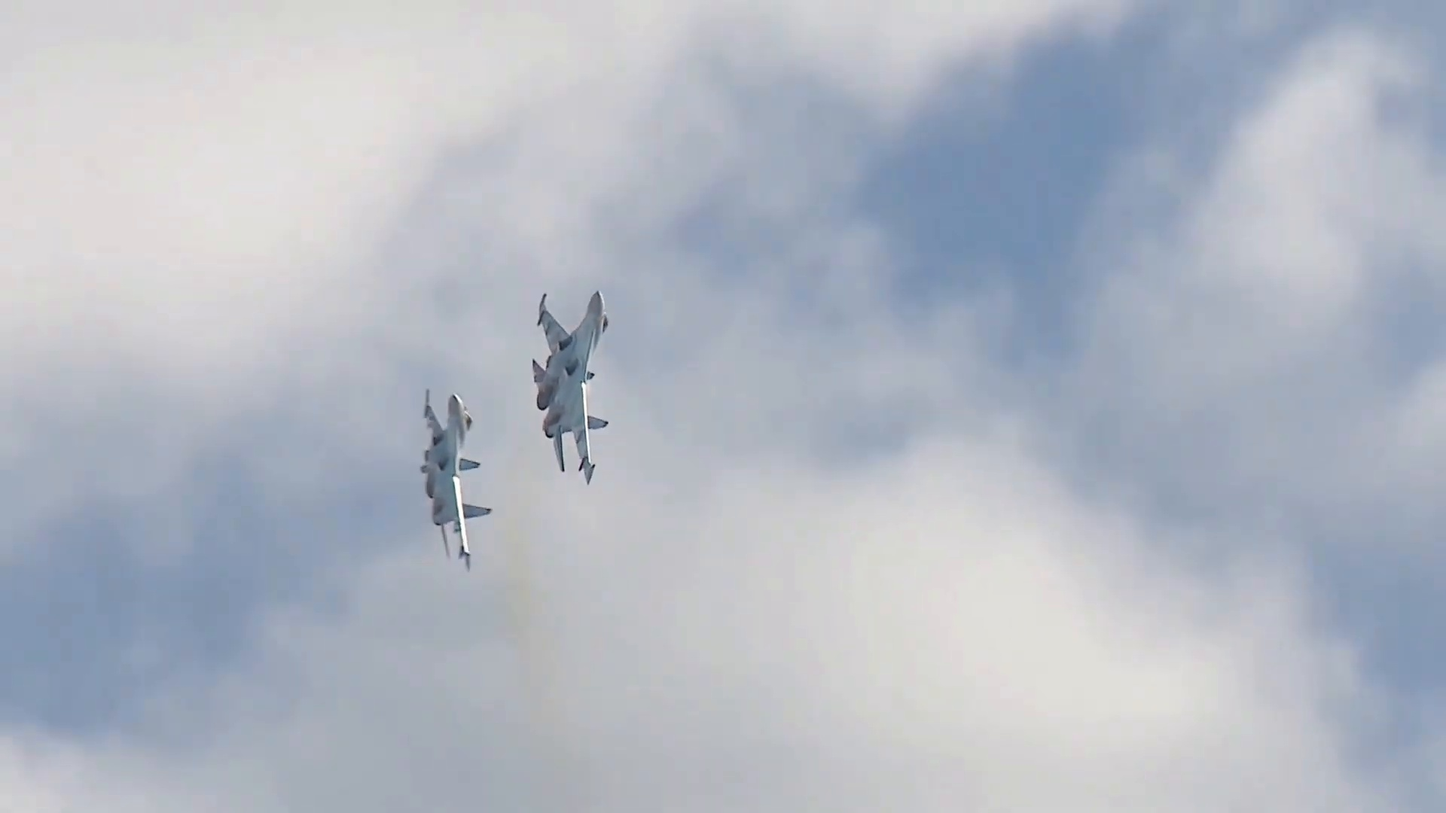Su35: (531, 291, 610, 487), (420, 388, 493, 571)
